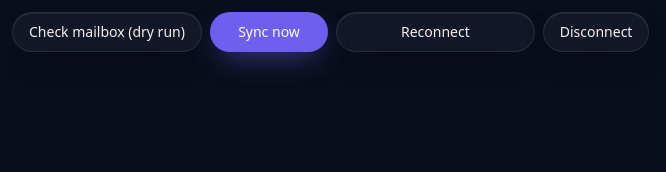
Zoho sync › recovers from a network failure (a thrown error) instead of staying disabled
The image size is (666, 172).
Click the button "Sync now" at [269, 32], box [210, 12, 328, 52]
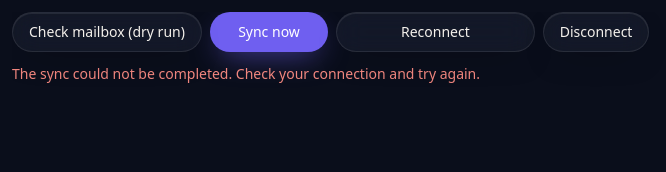
Expected: the message shows "could not be completed", [12, 64, 480, 83]
